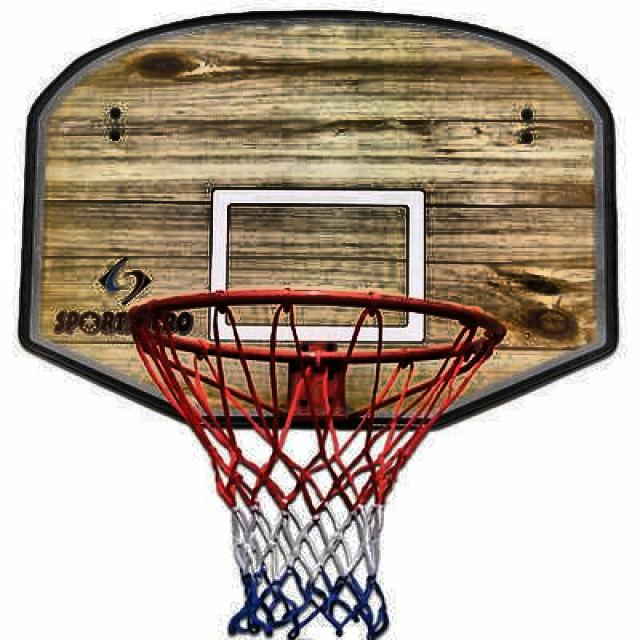rim: (124, 288, 505, 640)
